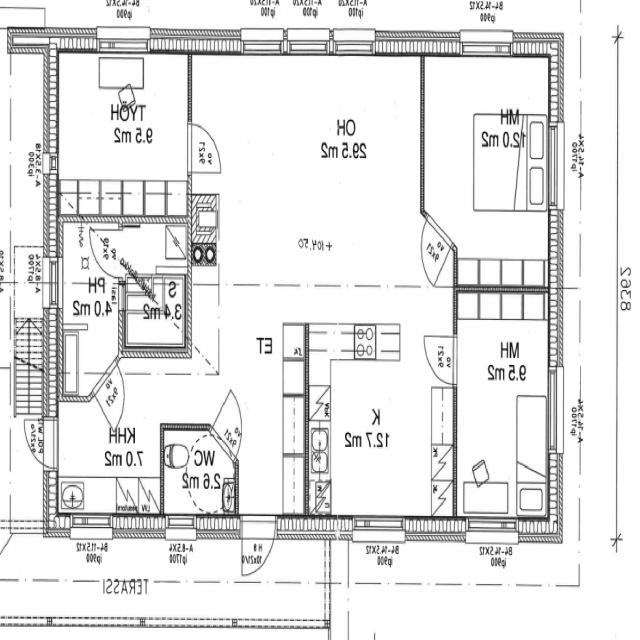door: (93, 359, 137, 431), (211, 389, 254, 461), (409, 216, 452, 288), (242, 514, 274, 590), (16, 419, 58, 464), (423, 336, 458, 385), (89, 229, 123, 278), (188, 123, 221, 172)
